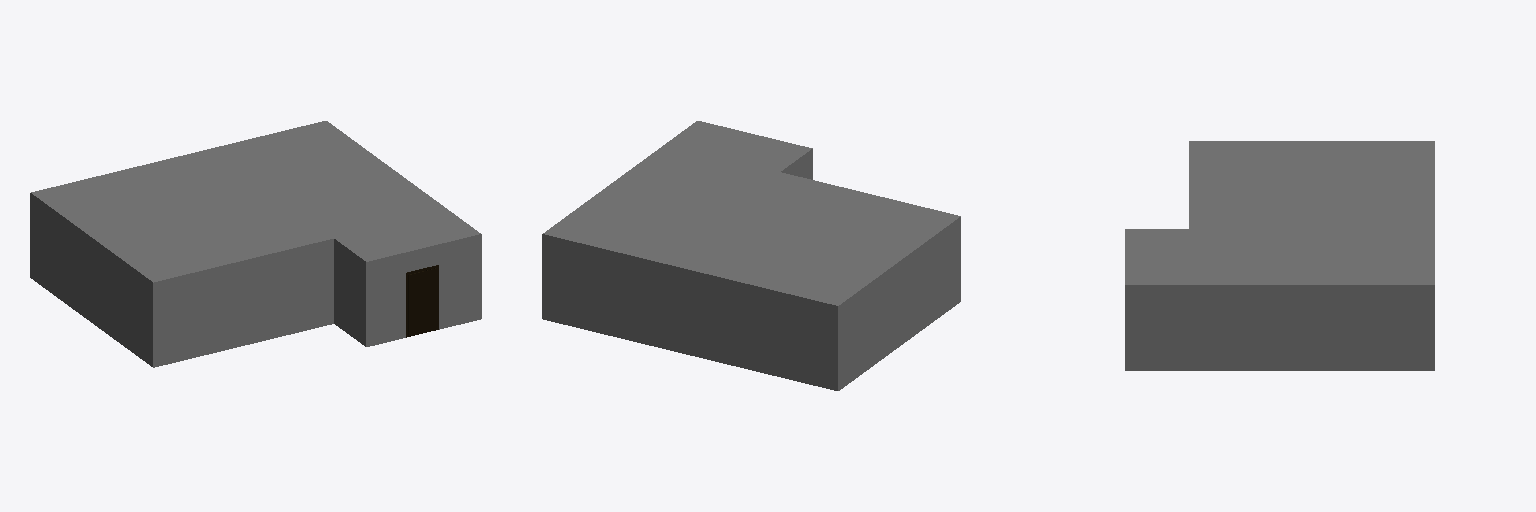
Rendered from livingroom.obj.
3 views of the same model, side by side, from view 1: azimuth 30°, elevation 25°; view 2: azimuth 150°, elevation 25°; view 3: azimuth 270°, elevation 25° (orthographic).
Visible parts, largest first — view 1: LivingRoom Home, LivingRoom Door_Livingroom Door1; view 2: LivingRoom Home; view 3: LivingRoom Home.
Boxes of the visible parts, x1,y1,x2,y2 form: LivingRoom Home: [30, 121, 481, 367]; LivingRoom Door_Livingroom Door1: [408, 268, 435, 336]; LivingRoom Home: [542, 121, 960, 390]; LivingRoom Home: [1125, 141, 1434, 370].
Bounding box in the file's own units: 21.26 × 5.86 × 19.31.